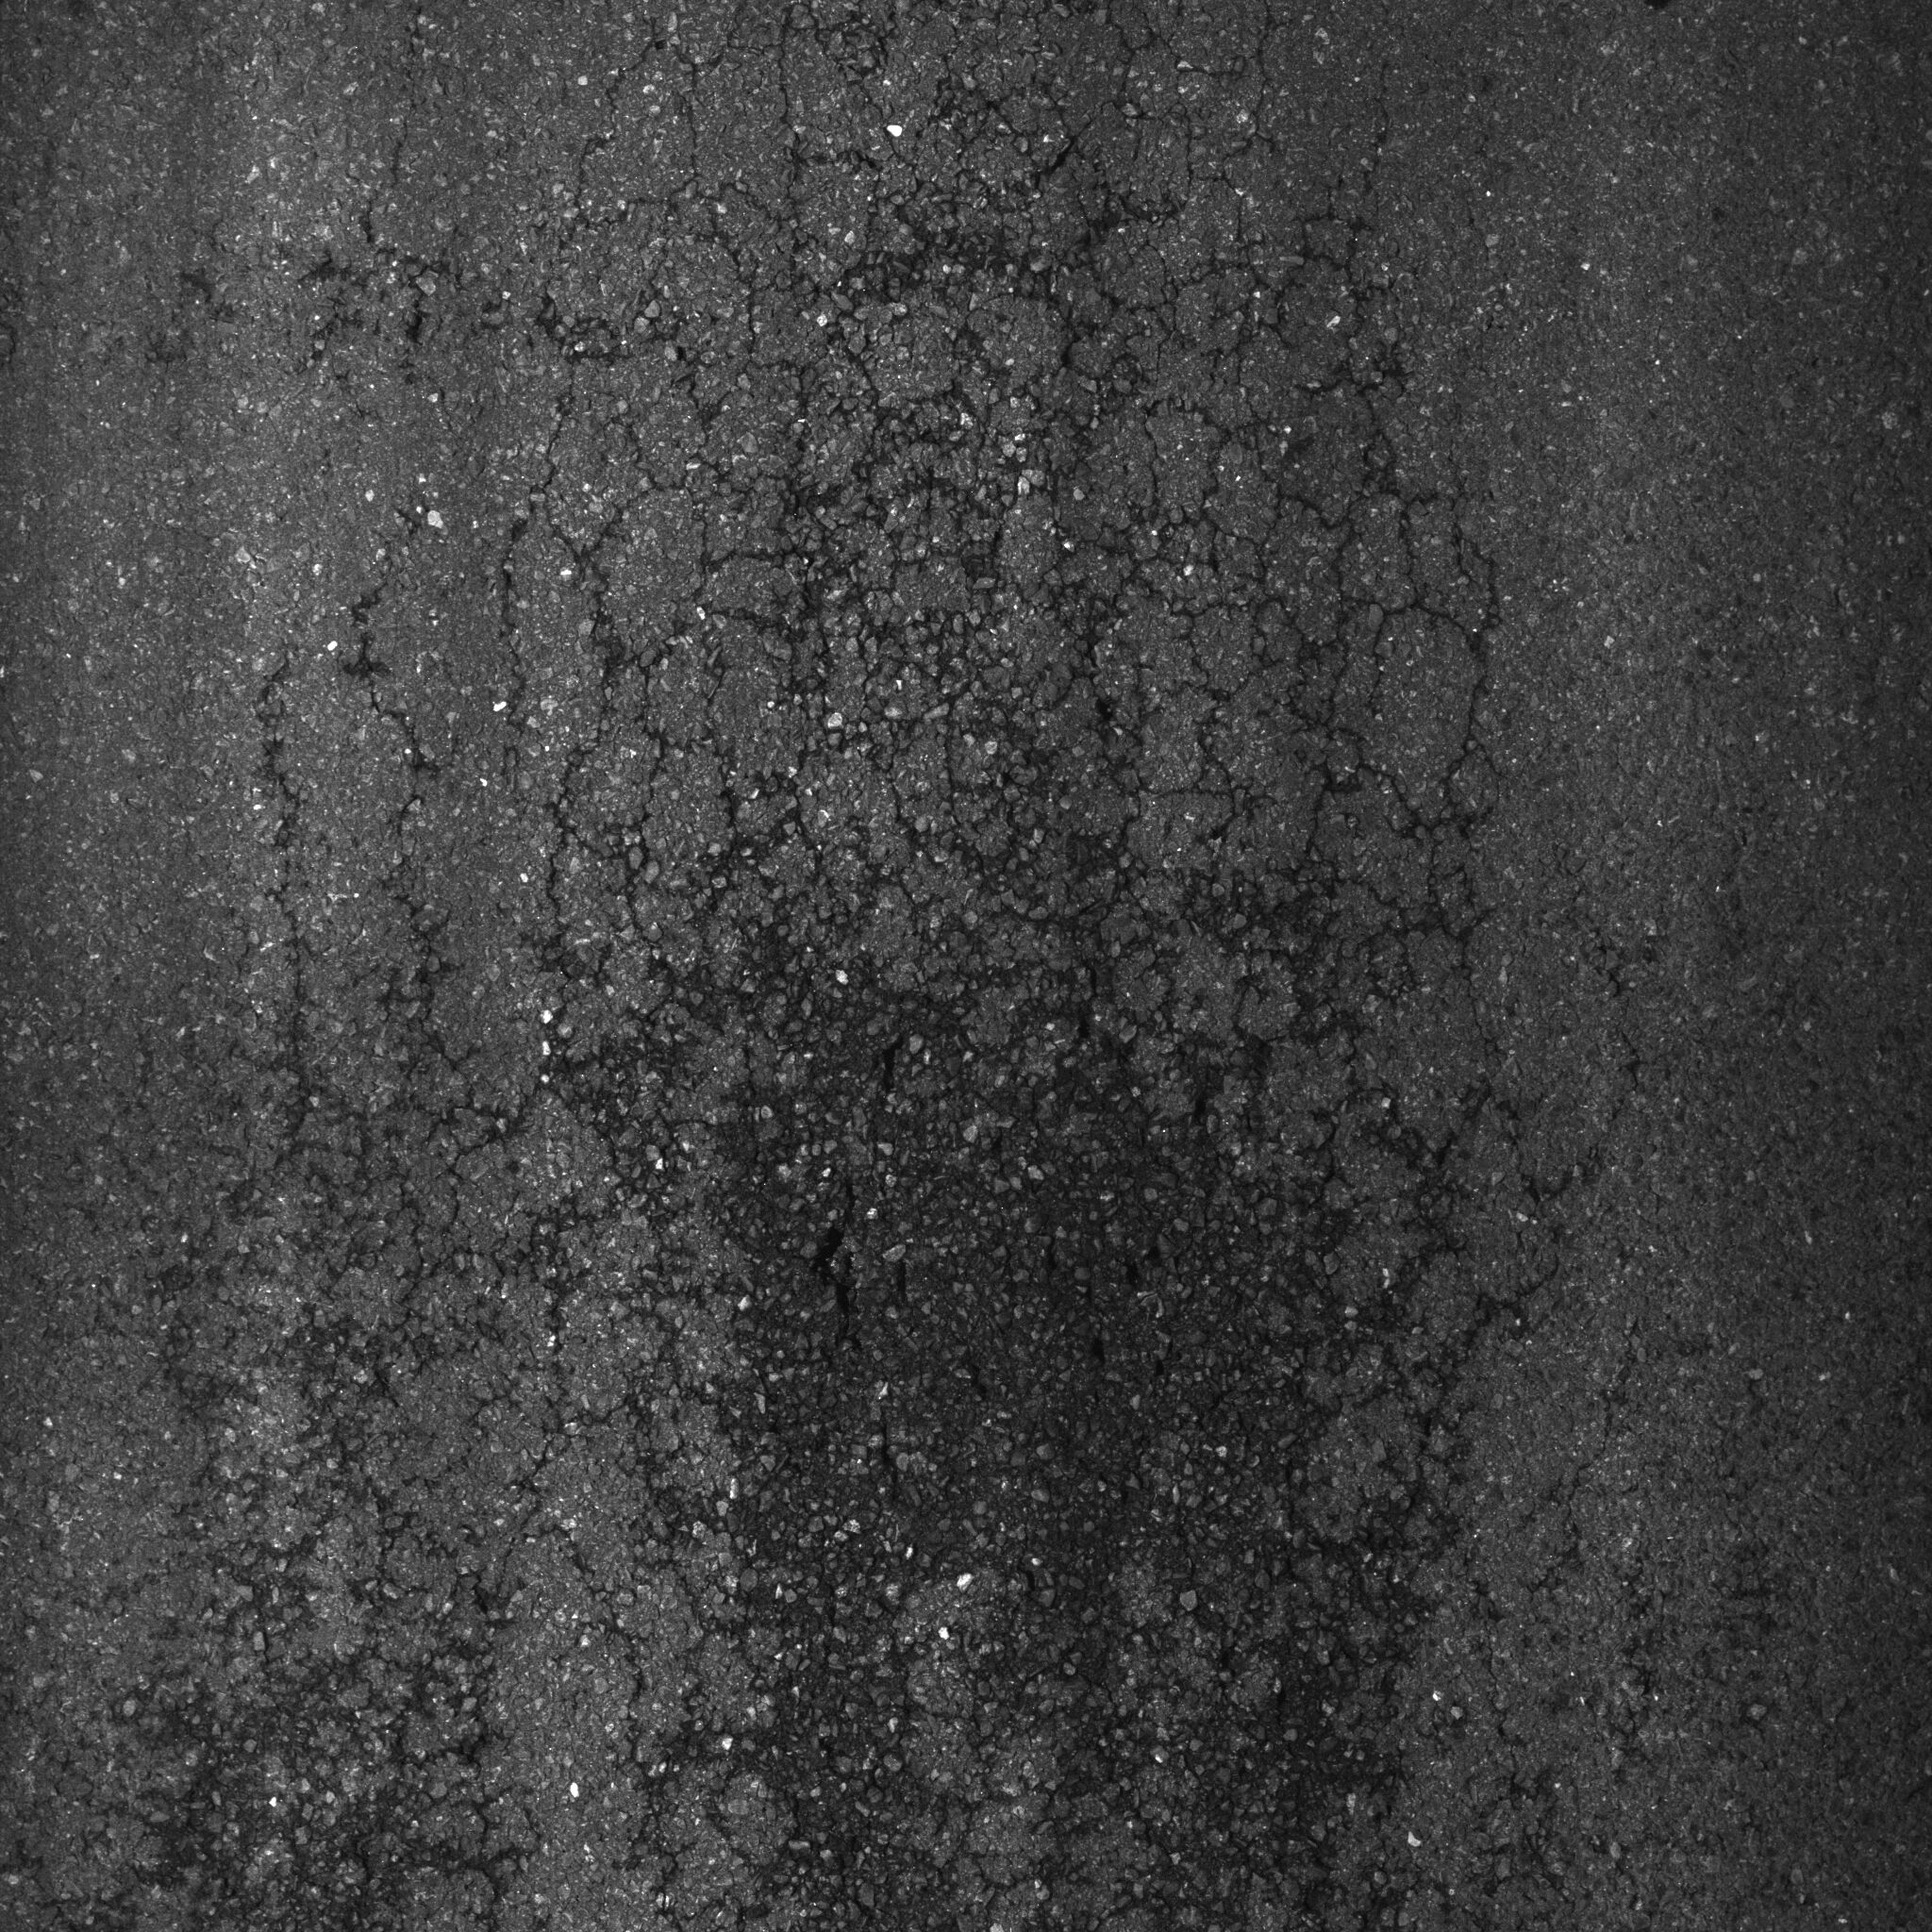alligator: (46, 62, 1711, 1932)
